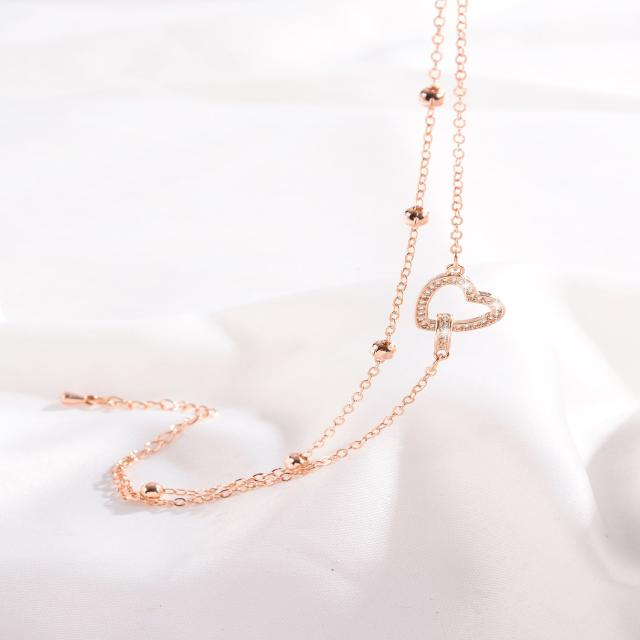bracelet: (21, 3, 640, 537)
